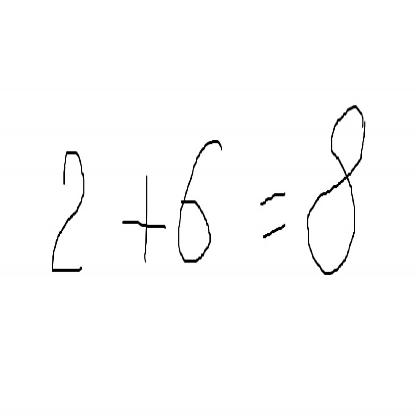-: (115, 152, 164, 266)
